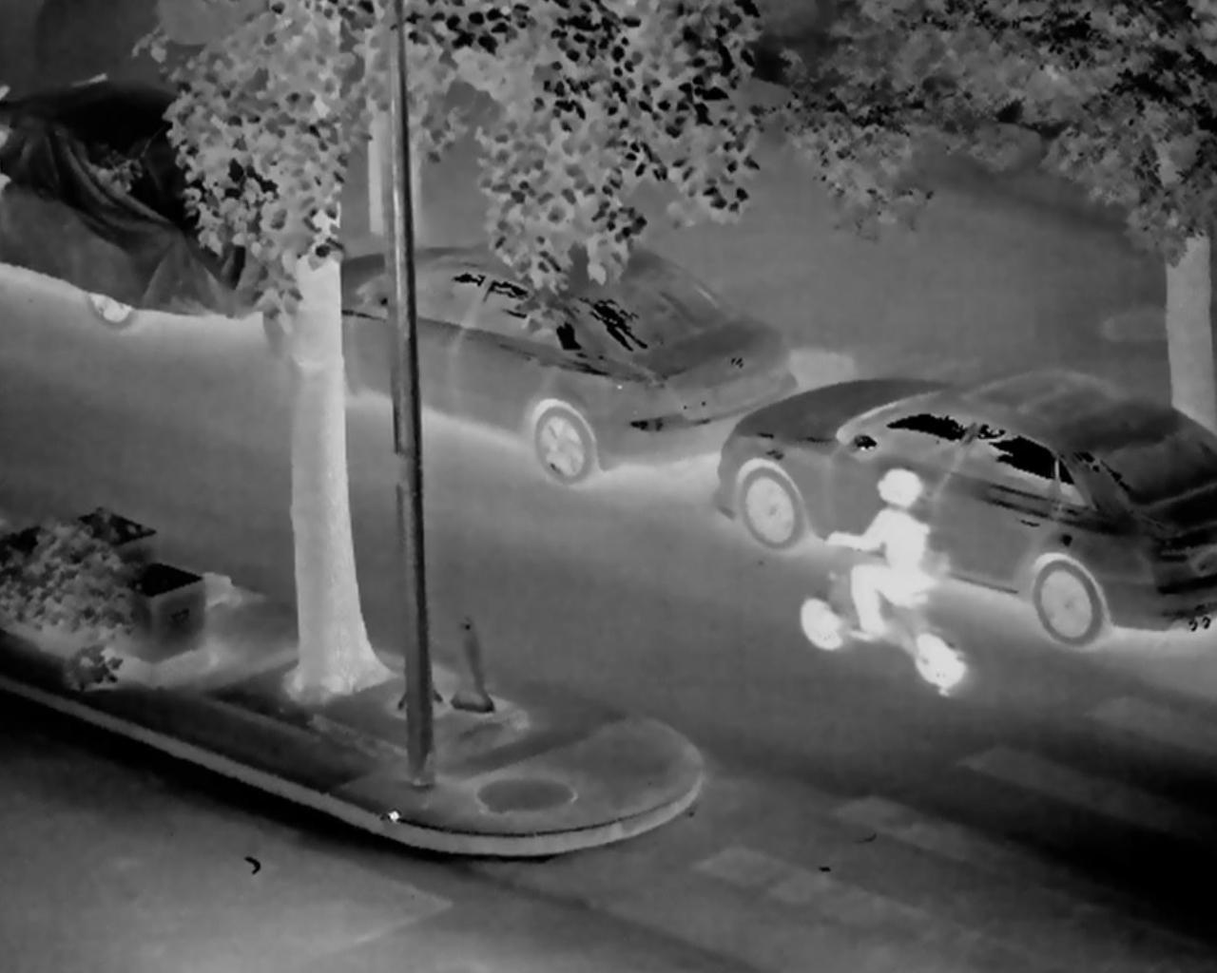person: (793, 457, 964, 655)
